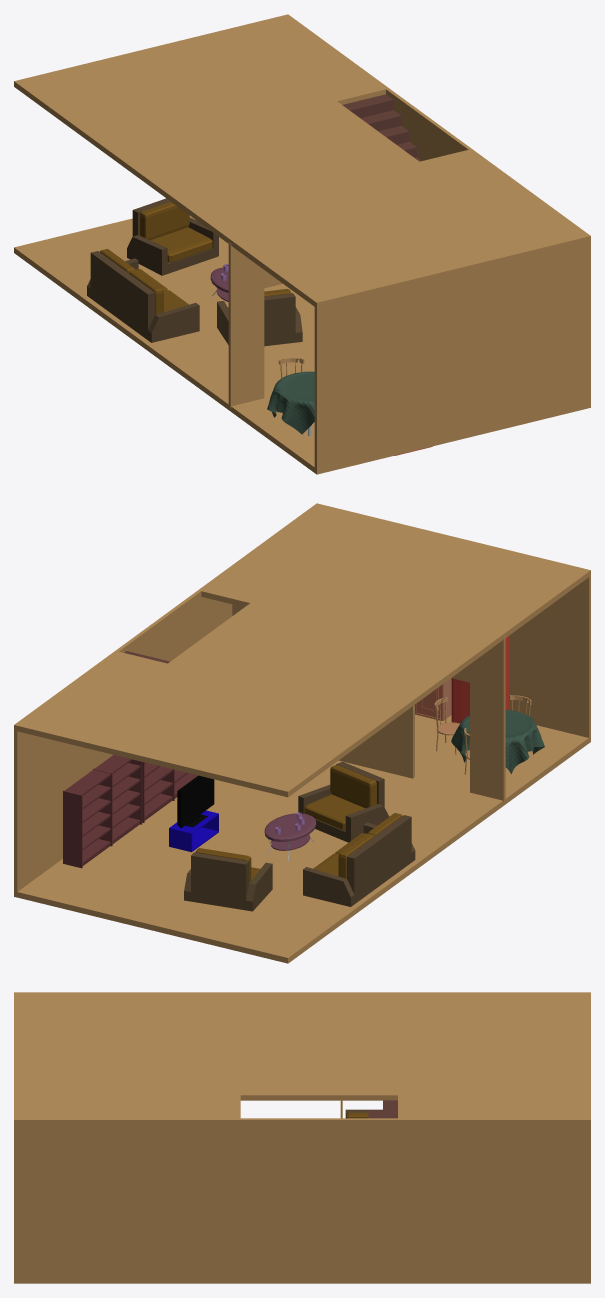
The model's file is tyrion_house.dae.
The picture shows the model from 3 angles, top to bottom: view 1: azimuth 30°, elevation 25°; view 2: azimuth 150°, elevation 25°; view 3: azimuth 270°, elevation 25°; orthographic projection. The views are drawn at different scales.
Parts seen in each view (by area): view 1: pCube21, Cube, pCube194, pCube60, pCube109, pCube109.001, pCube109.002, pPlane6, pCube112.001, pCube111.001, pCube22; view 2: pCube21, pCube194, Cube, pCube60, pCube193, pCube109, pCube109.001, pPlane6, pCube109.002, pCube192, pCube112.002, pCube189 (+5 smaller); view 3: pCube194, pCube21, Cube.
Part boxes in pixels (box(x1,y1,x2,y2)): pCube21: box(14, 15, 586, 306); Cube: box(314, 234, 590, 474); pCube194: box(14, 14, 588, 472); pCube60: box(228, 242, 282, 408); pCube109: box(87, 251, 199, 342); pCube109.001: box(127, 198, 218, 275); pCube109.002: box(217, 293, 302, 346); pPlane6: box(267, 371, 314, 434); pCube112.001: box(140, 201, 189, 240); pCube111.001: box(151, 227, 212, 262); pCube22: box(342, 94, 393, 118); pCube21: box(17, 504, 589, 797); pCube194: box(14, 505, 588, 963); Cube: box(315, 503, 590, 742); pCube60: box(232, 604, 505, 802); pCube193: box(63, 755, 142, 868); pCube109: box(303, 815, 415, 906); pCube109.001: box(184, 852, 272, 911); pPlane6: box(451, 709, 544, 773); pCube109.002: box(298, 761, 389, 842); pCube192: box(142, 762, 197, 822); pCube112.002: box(330, 765, 376, 808); pCube189: box(177, 775, 214, 828); pCube194: box(18, 1118, 590, 1283); pCube21: box(15, 992, 590, 1118); Cube: box(14, 992, 17, 1283).
Bounding box in the file's own units: 4.18 × 7.99 × 2.53.
